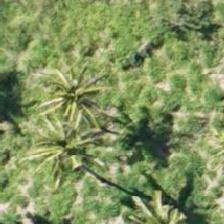coconut_tree: (13, 75, 103, 165), (115, 171, 205, 223)
